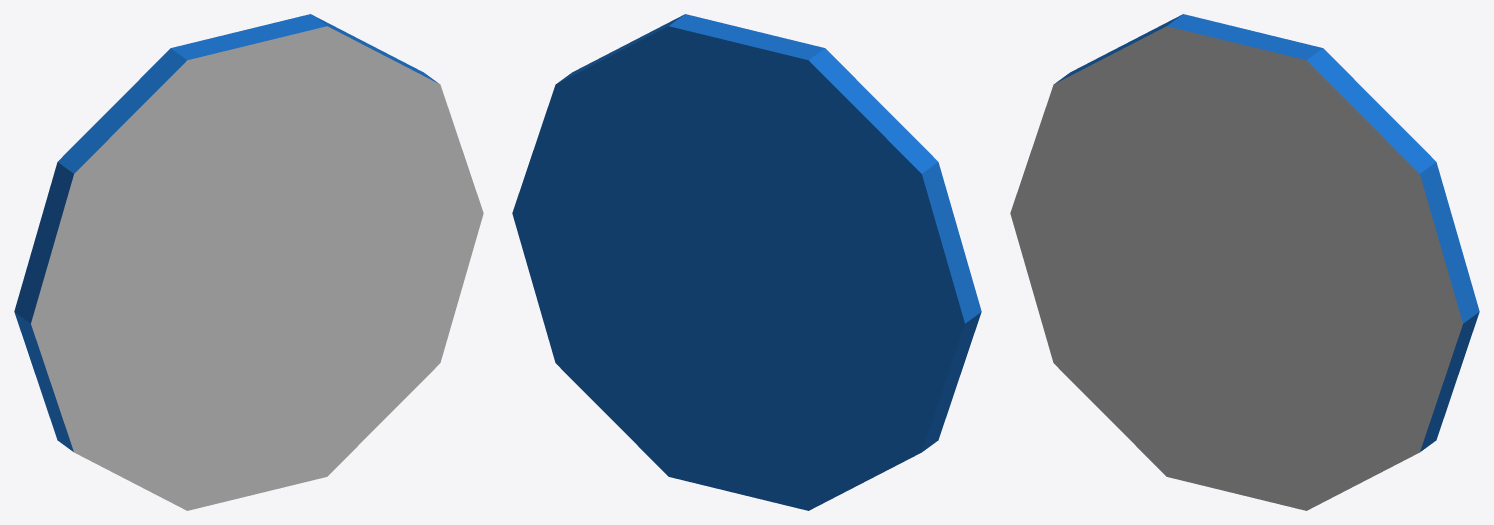
Rendered from SM_danger_sign.fbx.
The picture shows the model from 3 angles, left to right: view 1: azimuth 30°, elevation 25°; view 2: azimuth 150°, elevation 25°; view 3: azimuth 330°, elevation 25°; orthographic projection.
Visible parts, largest first — view 1: Cylinder_44; view 2: Cylinder_44; view 3: Cylinder_44.
Part boxes in pixels (<box>): Cylinder_44: <box>14,14,483,510</box>; Cylinder_44: <box>512,14,981,510</box>; Cylinder_44: <box>1010,14,1479,510</box>.
Size of the model in its own units: 47.17 by 44.86 by 3.
